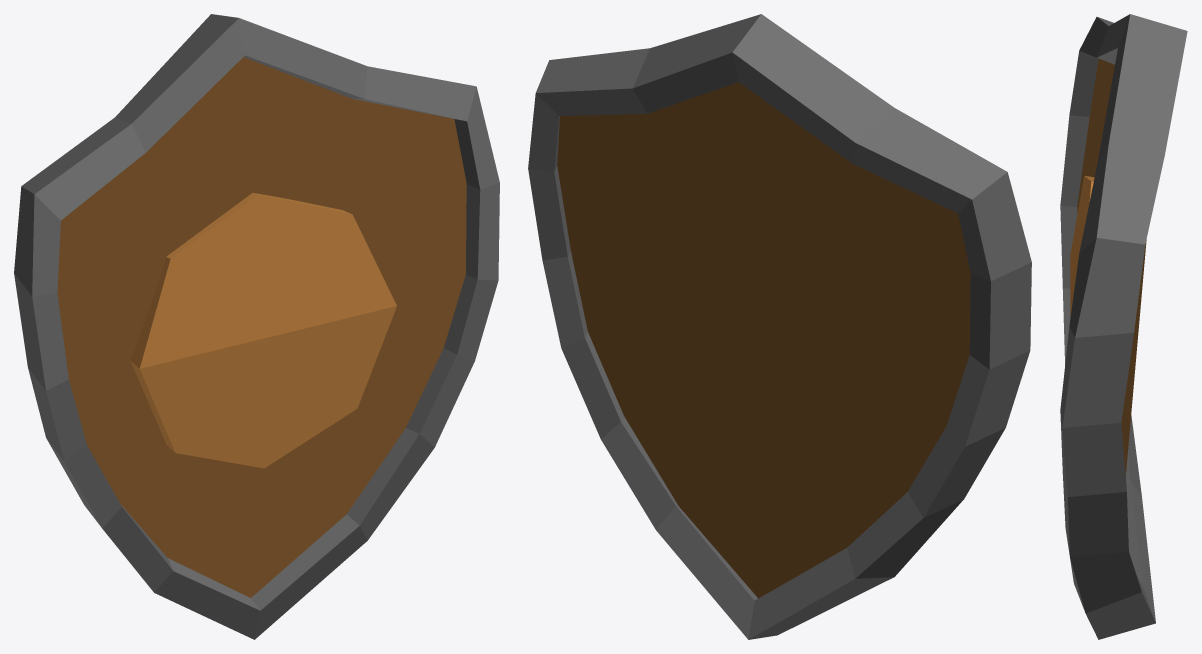
Rendered from Shield_2_Brown.fbx.
3 views of the same model, side by side, from view 1: azimuth 30°, elevation 25°; view 2: azimuth 150°, elevation 25°; view 3: azimuth 270°, elevation 25° (orthographic). The views are drawn at different scales.
Parts seen in each view (by area): view 1: Shield_2_Brown_Part_3, Shield_2_Brown_Part_1, Shield_2_Brown_Part_2; view 2: Shield_2_Brown_Part_3, Shield_2_Brown_Part_1; view 3: Shield_2_Brown_Part_1, Shield_2_Brown_Part_3, Shield_2_Brown_Part_2.
Part boxes in pixels (x1=…): Shield_2_Brown_Part_3: x1=57, y1=57, x2=466, y2=597; Shield_2_Brown_Part_1: x1=14, y1=14, x2=499, y2=639; Shield_2_Brown_Part_2: x1=131, y1=192, x2=396, y2=468; Shield_2_Brown_Part_3: x1=557, y1=82, x2=970, y2=598; Shield_2_Brown_Part_1: x1=528, y1=14, x2=1031, y2=639; Shield_2_Brown_Part_1: x1=1060, y1=14, x2=1187, y2=639; Shield_2_Brown_Part_3: x1=1077, y1=58, x2=1146, y2=475; Shield_2_Brown_Part_2: x1=1070, y1=176, x2=1094, y2=317.
Size of the model in its own units: 79.95 by 99.74 by 18.38.
